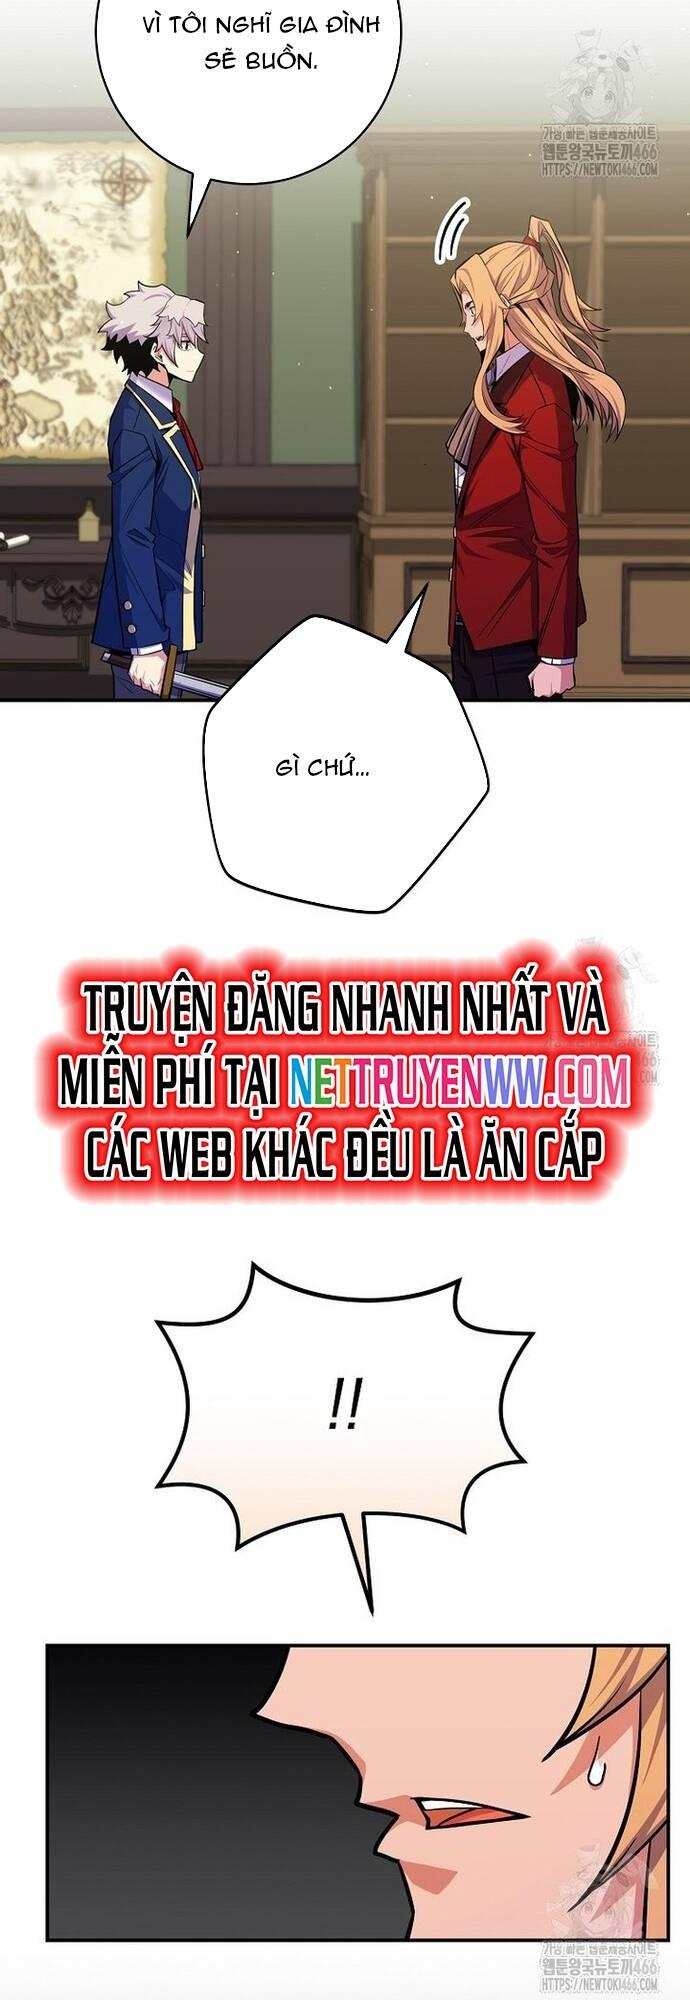quangcao: (42, 953, 658, 1205)
